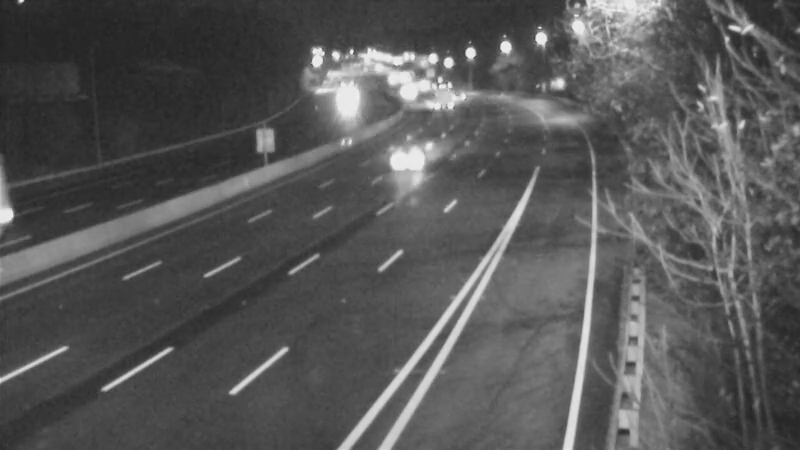vehicle: (374, 114, 454, 194), (436, 71, 486, 121), (379, 64, 429, 114), (413, 72, 463, 122), (313, 74, 363, 124)
